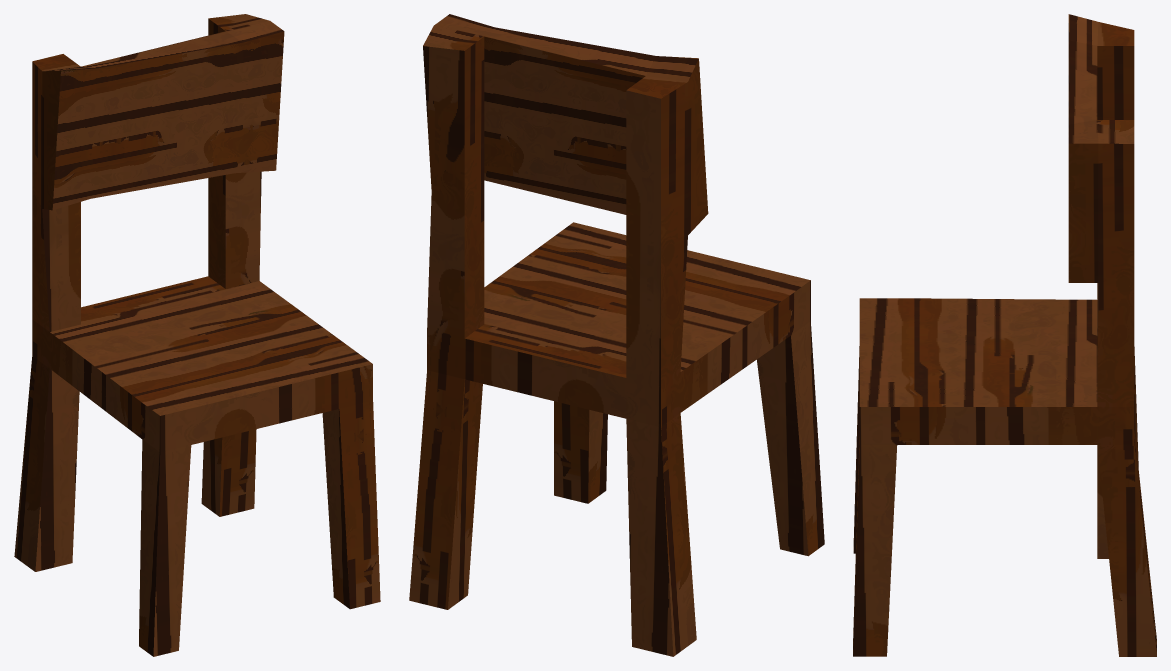
File: chair.fbx
3 renders of one model, left to right at view 1: azimuth 30°, elevation 25°; view 2: azimuth 150°, elevation 25°; view 3: azimuth 270°, elevation 25°, orthographic. The views are drawn at different scales.
Visible parts, largest first — view 1: Cube; view 2: Cube; view 3: Cube.
Part boxes in pixels (left/top/right/bottom): Cube: left=14, top=14, right=380, bottom=656; Cube: left=409, top=14, right=824, bottom=656; Cube: left=853, top=14, right=1156, bottom=656.
Size of the model in its own units: 1346 by 2780 by 1439.
1 material, 1 textured.
